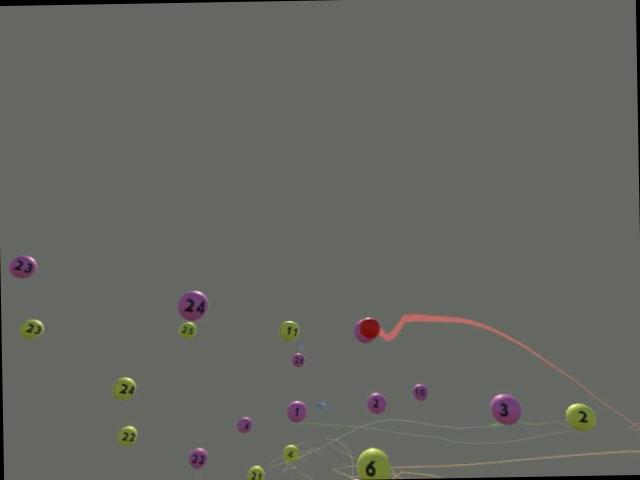ball_01_pink: (286, 400, 306, 422)
ball_02_pink: (366, 391, 386, 413)
ball_02_yellow: (564, 402, 595, 430)
ball_03_pink: (488, 392, 522, 424)
ball_04_pink: (236, 416, 252, 433)
ball_04_yellow: (282, 444, 298, 460)
ball_06_yellow: (356, 446, 390, 479)
ball_10_pink: (412, 384, 428, 400)
ball_11_yellow: (278, 320, 300, 340)
ball_21_yellow: (247, 464, 264, 480)
ball_22_pink: (188, 448, 208, 468)
ball_22_yellow: (118, 424, 136, 444)
ball_23_pink: (8, 254, 36, 277)
ball_23_yellow: (20, 319, 44, 339)
ball_24_pink: (178, 290, 208, 319)
ball_24_yellow: (112, 376, 136, 400)
ball_25_pink: (292, 353, 306, 367)
ball_25_yellow: (178, 320, 195, 338)
ball_unknown: (354, 330, 366, 342), (348, 478, 365, 479)
user_cursor: (358, 316, 379, 337)
